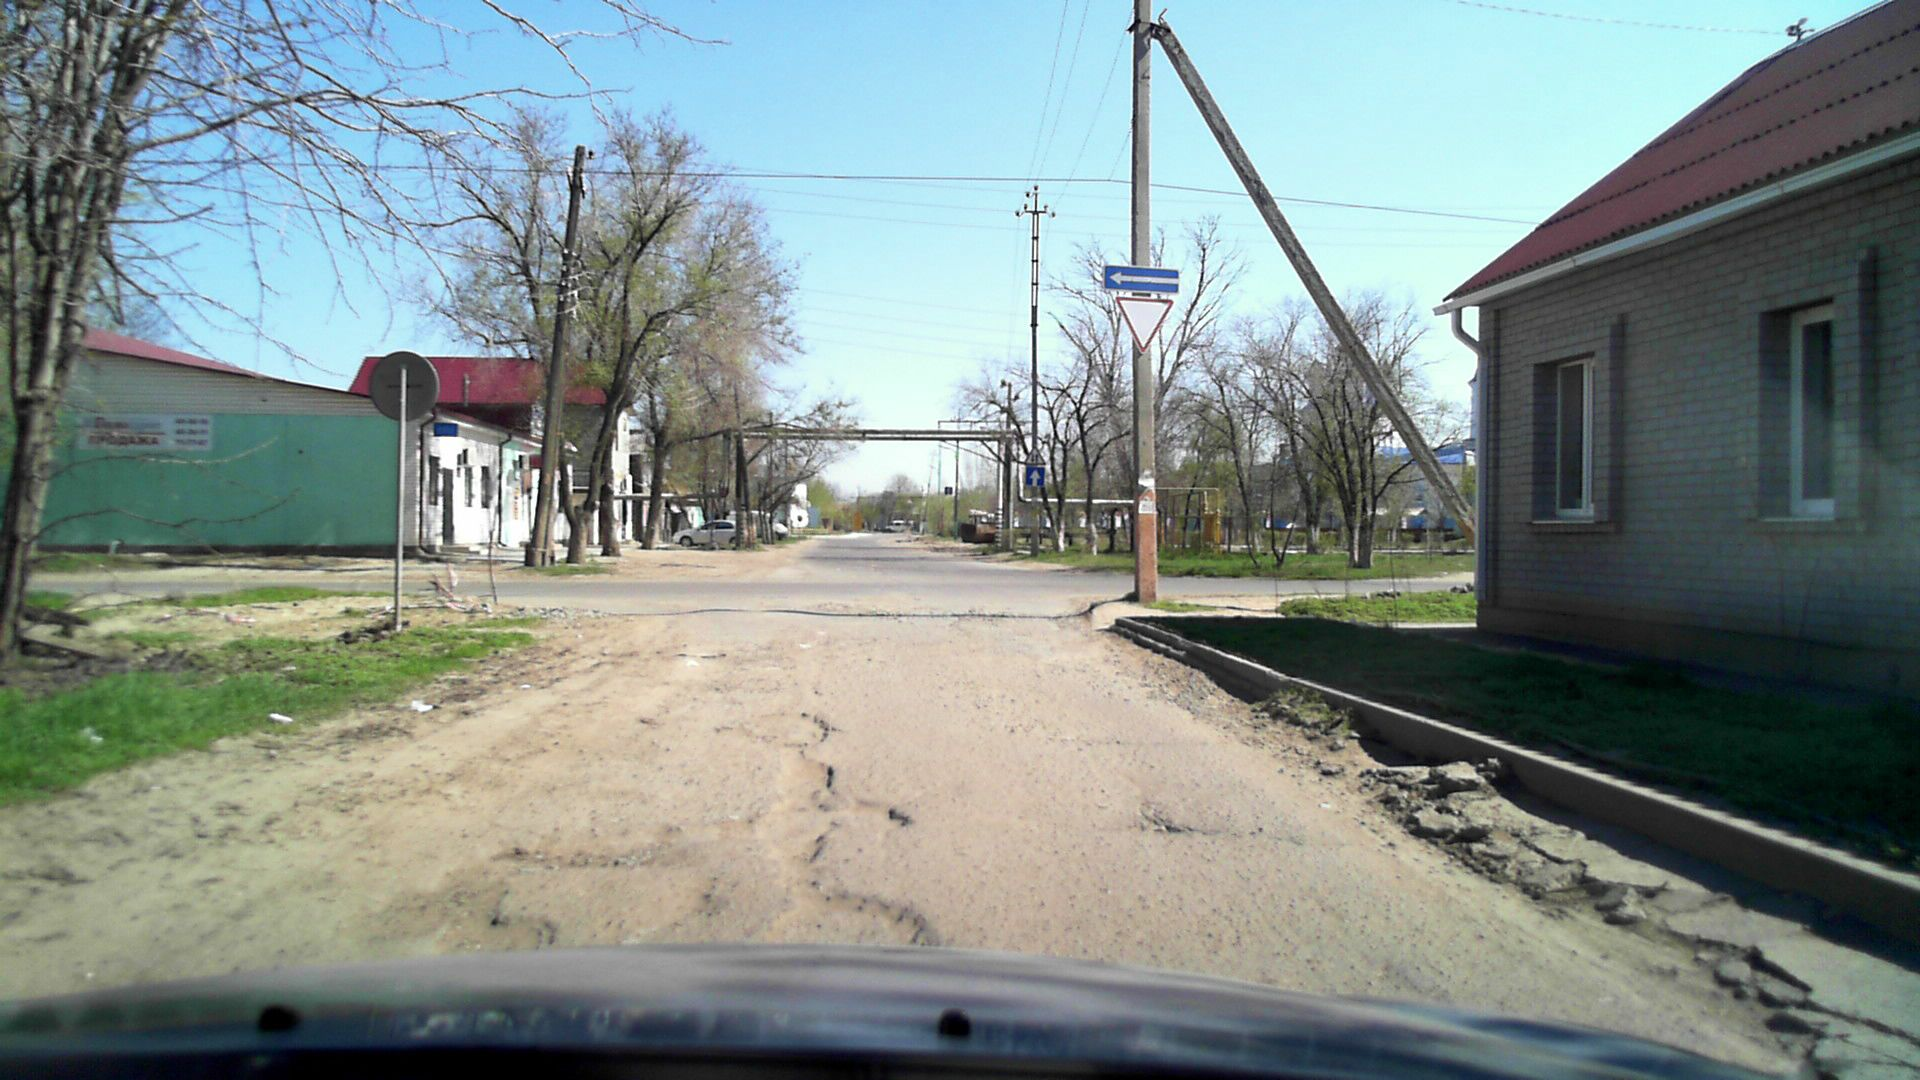One-Way Traffic: (1102, 265, 1179, 293)
